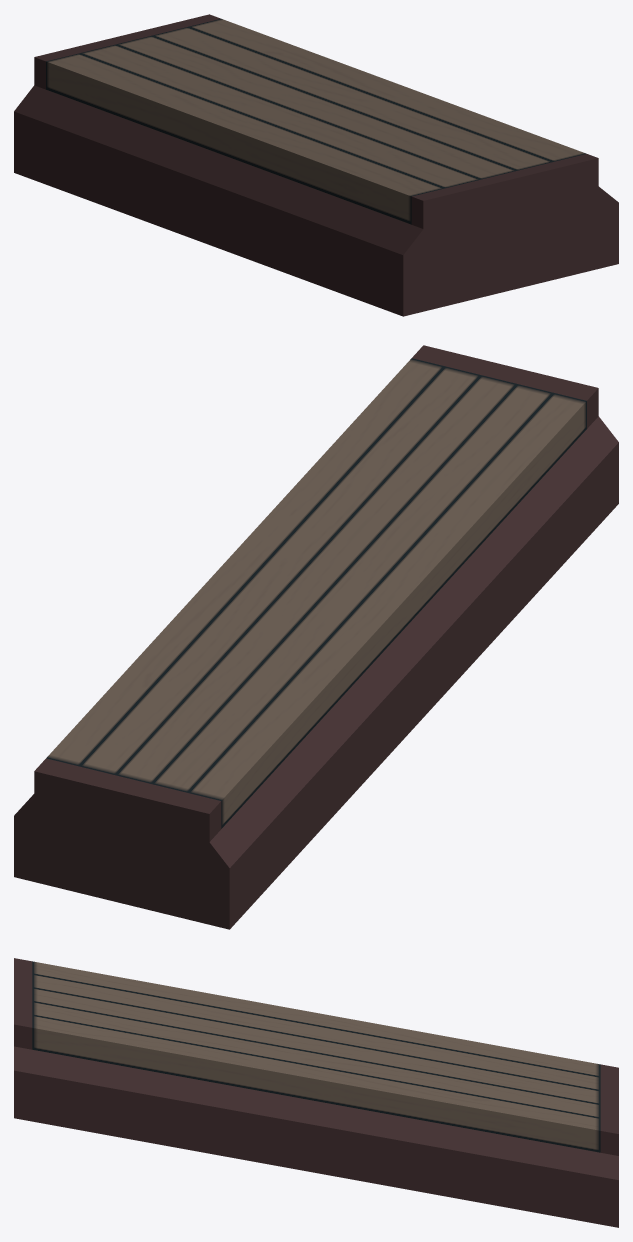
File: SW_ENV_EL_TrackBase_Walkway_Central_Rise_5m.fbx
3 views of the same model, one above another, from view 1: azimuth 30°, elevation 25°; view 2: azimuth 150°, elevation 25°; view 3: azimuth 270°, elevation 25° (orthographic). The views are drawn at different scales.
Visible parts, largest first — view 1: SW_ENV_EL_TrackBase_Walkway_Central_Rise_5m; view 2: SW_ENV_EL_TrackBase_Walkway_Central_Rise_5m; view 3: SW_ENV_EL_TrackBase_Walkway_Central_Rise_5m.
Boxes of the visible parts, box(x1,y1,x2,y2) form: SW_ENV_EL_TrackBase_Walkway_Central_Rise_5m: box(14, 14, 618, 316); SW_ENV_EL_TrackBase_Walkway_Central_Rise_5m: box(14, 345, 618, 929); SW_ENV_EL_TrackBase_Walkway_Central_Rise_5m: box(14, 958, 618, 1227).
Size of the model in its own units: 160 by 178 by 500.
